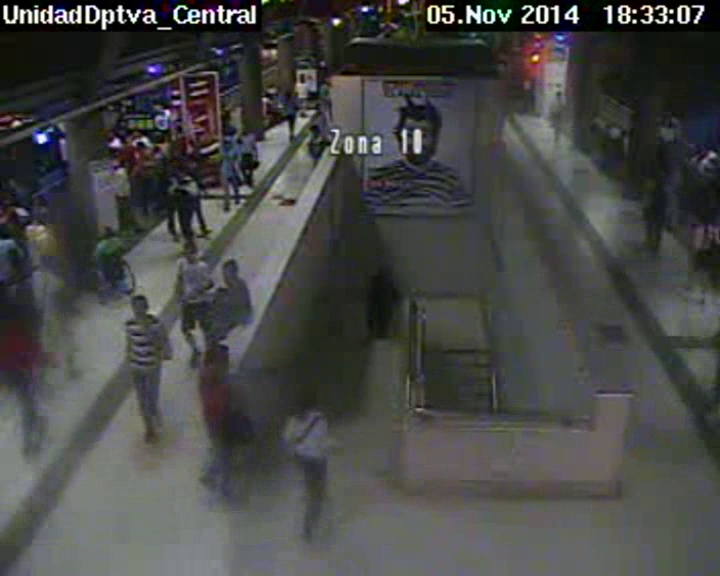person: (201, 347, 232, 377), (218, 256, 238, 280), (131, 295, 151, 317), (182, 241, 201, 261), (301, 391, 318, 411), (10, 308, 28, 326), (183, 154, 198, 171), (30, 210, 47, 225), (374, 265, 389, 281), (308, 124, 324, 139), (102, 224, 116, 240), (701, 210, 715, 226), (32, 195, 48, 209), (33, 256, 47, 271), (646, 164, 659, 178), (169, 157, 182, 171), (135, 143, 148, 155), (112, 149, 123, 163), (239, 122, 251, 134), (222, 137, 234, 149), (133, 125, 145, 136), (105, 129, 117, 139), (173, 123, 183, 134), (1, 224, 7, 240), (269, 85, 278, 92), (286, 90, 292, 99), (299, 73, 305, 82), (264, 92, 270, 99)
